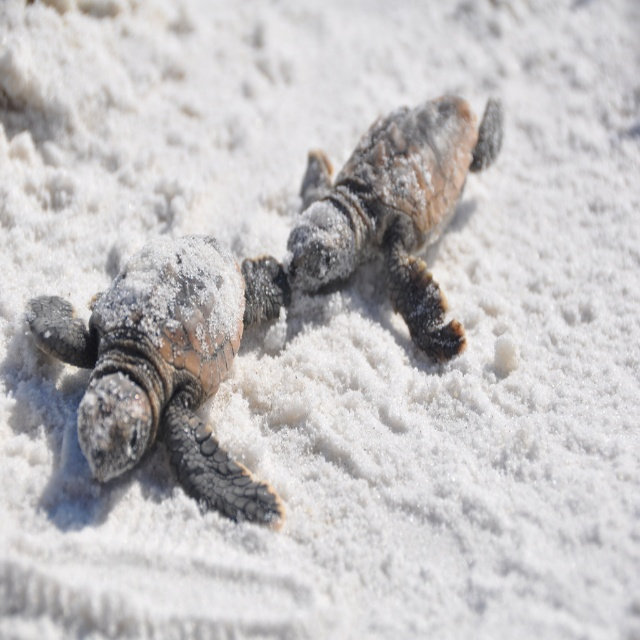Sea turtle: (26, 231, 298, 532), (284, 95, 508, 362)
